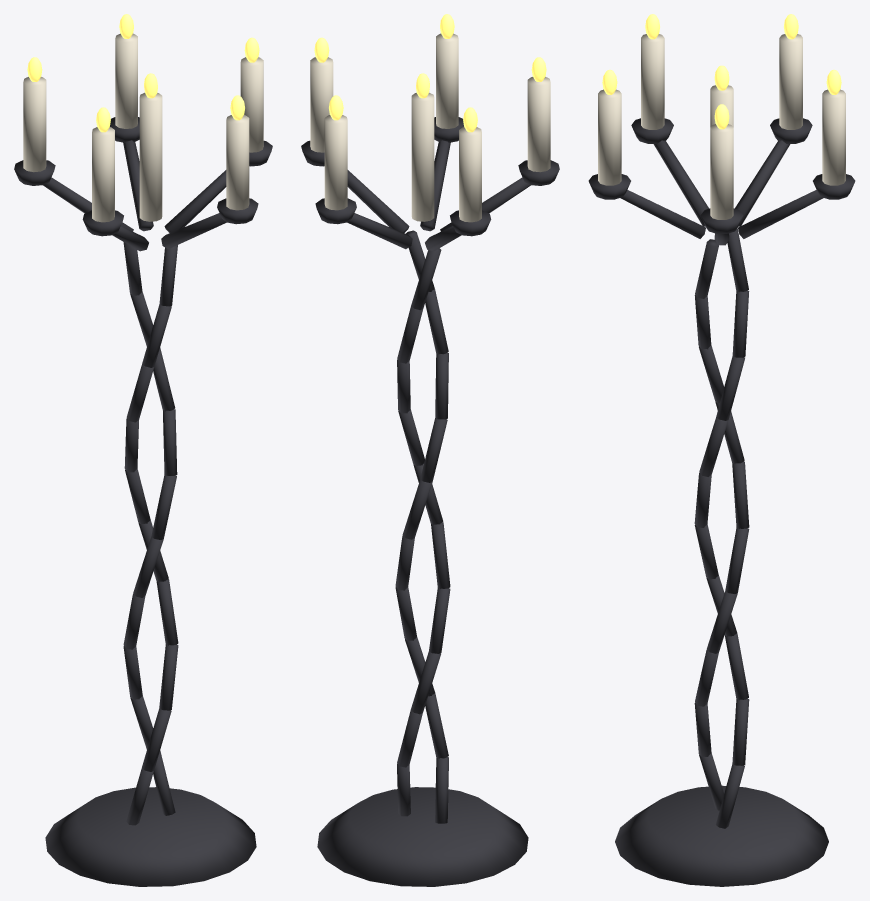
The model's file is candelabra_twisted_iron.glb.
The picture shows the model from 3 angles, left to right: view 1: azimuth 30°, elevation 25°; view 2: azimuth 150°, elevation 25°; view 3: azimuth 270°, elevation 25°; orthographic projection.
Visible parts, largest first — view 1: GD_candelabra_twisted_iron__m0, GD_candelabra_twisted_iron__m1, GD_candelabra_twisted_iron__m2; view 2: GD_candelabra_twisted_iron__m0, GD_candelabra_twisted_iron__m1, GD_candelabra_twisted_iron__m2; view 3: GD_candelabra_twisted_iron__m0, GD_candelabra_twisted_iron__m1, GD_candelabra_twisted_iron__m2.
Part boxes in pixels (box(x1,y1,x2,y2)): GD_candelabra_twisted_iron__m0: box(14, 117, 272, 886); GD_candelabra_twisted_iron__m1: box(23, 33, 263, 222); GD_candelabra_twisted_iron__m2: box(27, 14, 259, 132); GD_candelabra_twisted_iron__m0: box(301, 117, 559, 886); GD_candelabra_twisted_iron__m1: box(310, 33, 550, 222); GD_candelabra_twisted_iron__m2: box(314, 14, 546, 132); GD_candelabra_twisted_iron__m0: box(588, 118, 855, 886); GD_candelabra_twisted_iron__m1: box(598, 34, 845, 219); GD_candelabra_twisted_iron__m2: box(602, 14, 841, 129).
Size of the model in its own units: 0.4741 by 1.62 by 0.4985.
